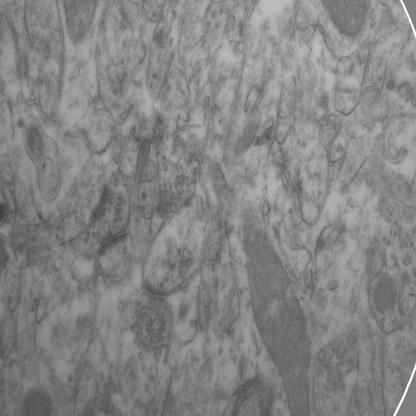mitochondria: (245, 214, 309, 415), (374, 272, 396, 318)
